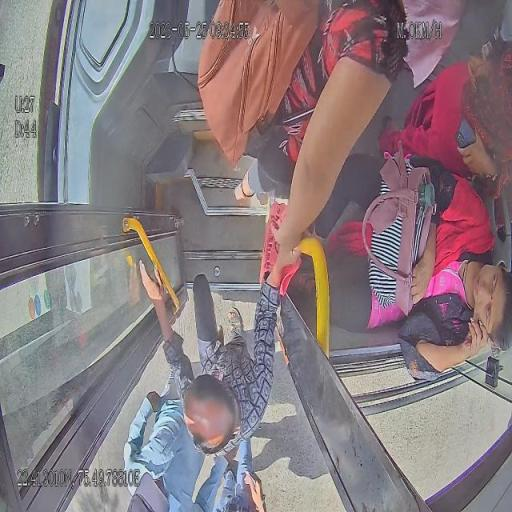persona: (196, 0, 409, 243), (122, 260, 268, 510), (396, 258, 512, 384)
